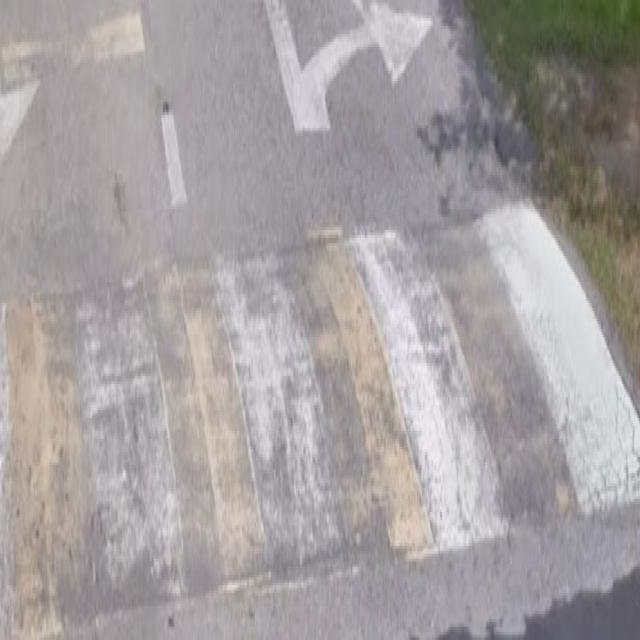speed-bump: (0, 88, 639, 637)
